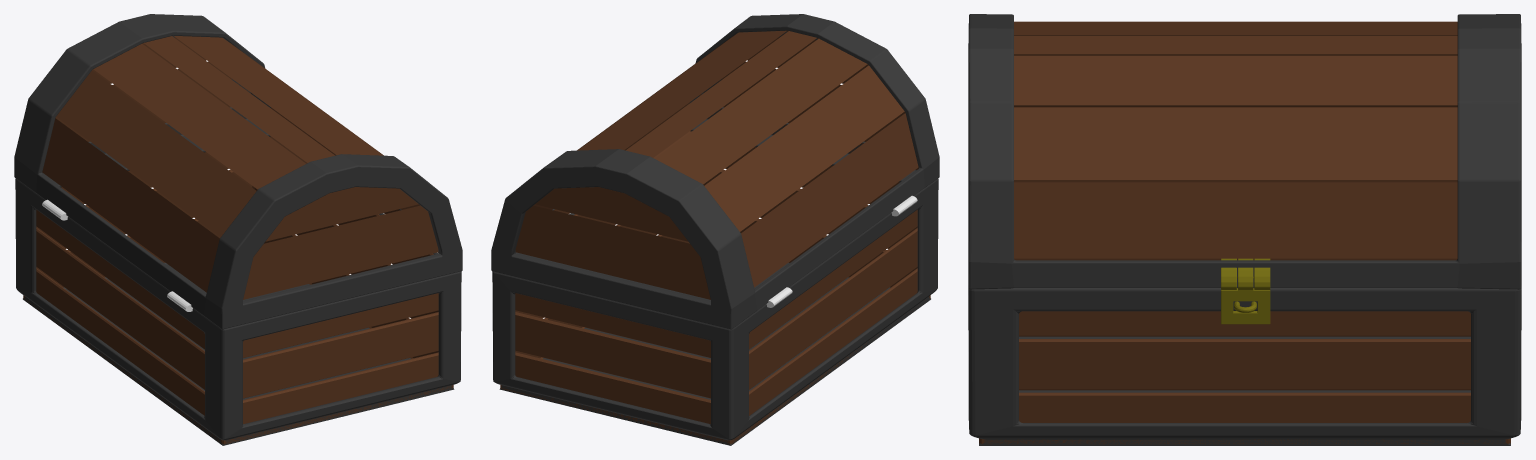
The model's file is Chest.fbx.
3 views of the same model, side by side, from view 1: azimuth 30°, elevation 25°; view 2: azimuth 150°, elevation 25°; view 3: azimuth 270°, elevation 25° (orthographic). The views are drawn at different scales.
Visible parts, largest first — view 1: Cube.003, Cube.001, Cube.002, Cube; view 2: Cube.003, Cube.001, Cube.002, Cube; view 3: Cube.003, Cube.001, Cube.002, Cube, Cylinder.
Part boxes in pixels (left/top/right/bottom): Cube.003: left=42, top=36, right=438, bottom=299; Cube.001: left=23, top=136, right=453, bottom=444; Cube.002: left=14, top=14, right=462, bottom=329; Cube: left=15, top=178, right=461, bottom=445; Cube.003: left=515, top=30, right=918, bottom=299; Cube.001: left=500, top=131, right=930, bottom=444; Cube.002: left=491, top=14, right=939, bottom=329; Cube: left=492, top=178, right=938, bottom=445; Cube.003: left=1014, top=21, right=1457, bottom=258; Cube.001: left=979, top=180, right=1510, bottom=444; Cube.002: left=968, top=14, right=1521, bottom=289; Cube: left=968, top=288, right=1521, bottom=445; Cylinder: left=1221, top=258, right=1270, bottom=324.
Size of the model in its own units: 224 by 210 by 312.
